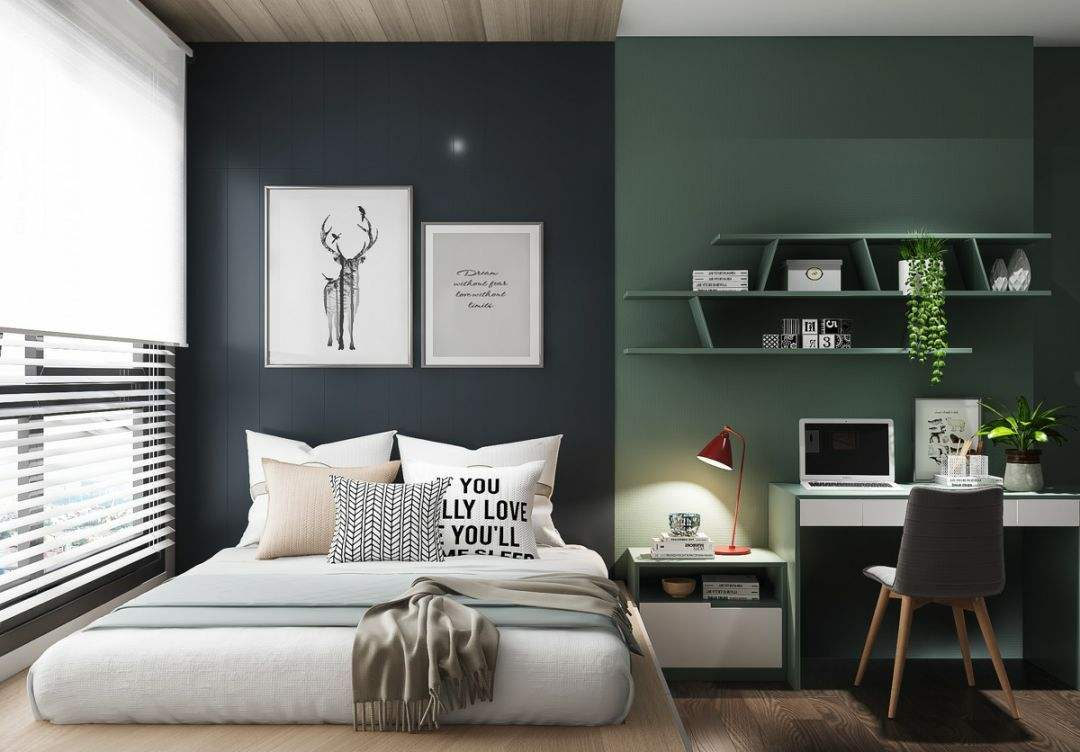床: (30, 550, 640, 746)
枕头: (250, 434, 568, 566)
灯: (694, 419, 758, 559)
